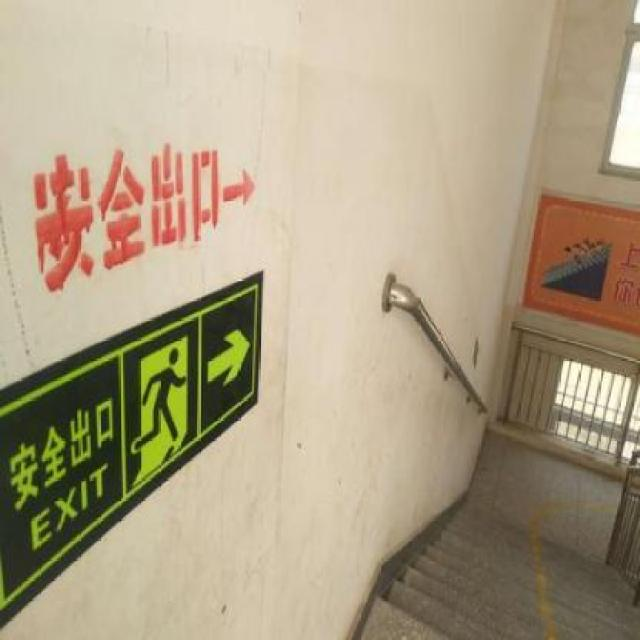exit_sign: (0, 269, 271, 637)
